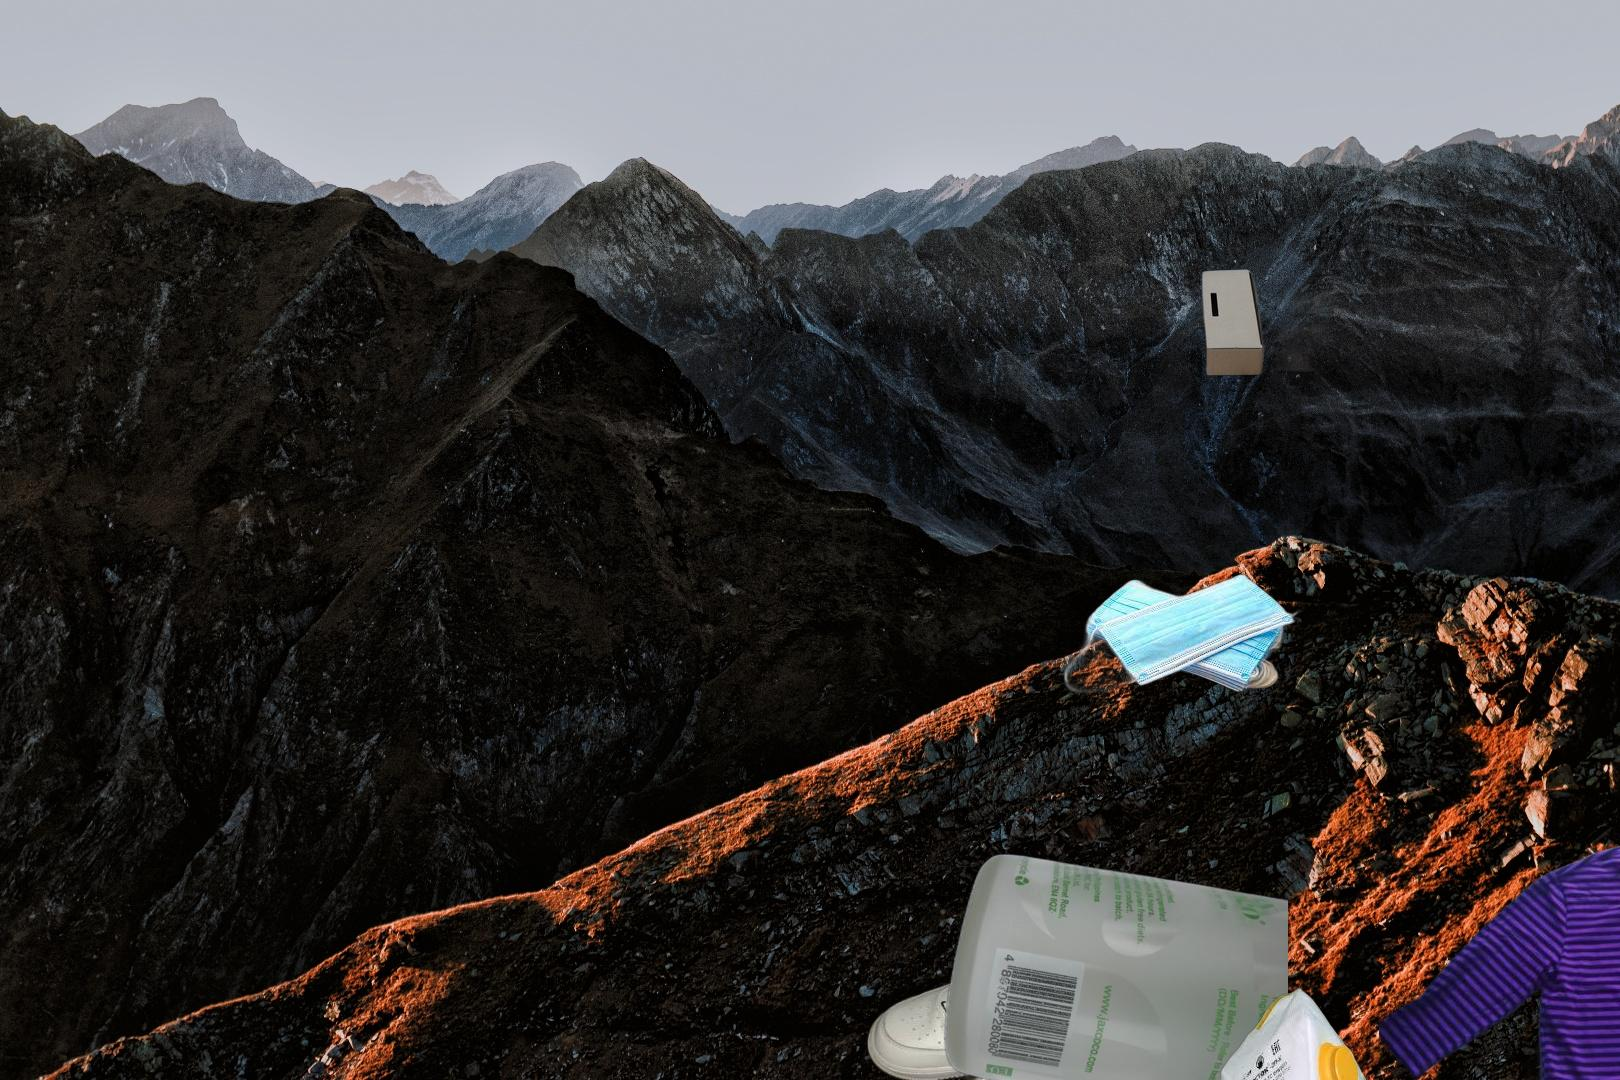clothes: (1379, 824, 1620, 1080)
glass: (940, 852, 1289, 1080)
shoes: (863, 877, 1248, 1080)
trash: (1060, 571, 1309, 704), (1211, 985, 1384, 1080)
trashbox-cardboard: (1199, 251, 1358, 381)
